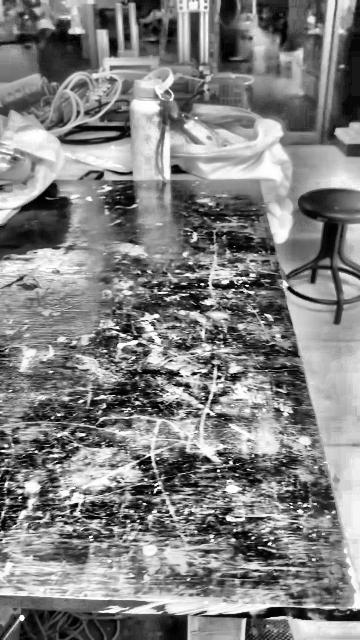pot: (87, 327, 123, 355)
